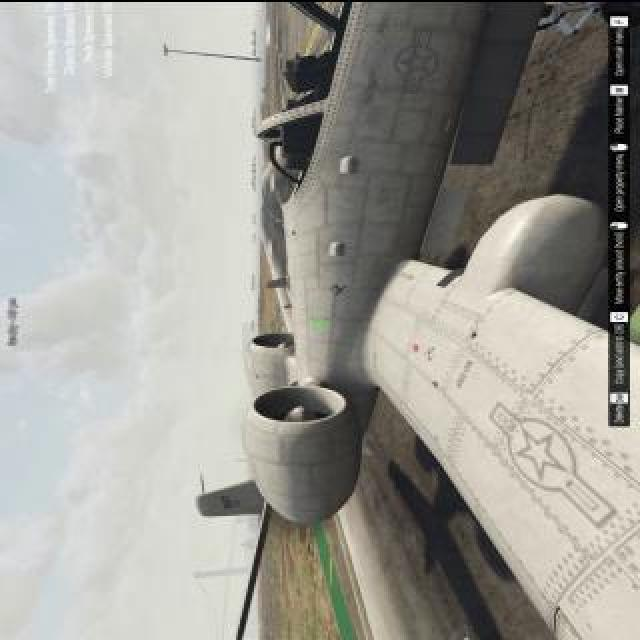crack: (419, 342, 439, 362), (326, 282, 350, 296), (428, 378, 446, 390), (464, 330, 484, 338)
